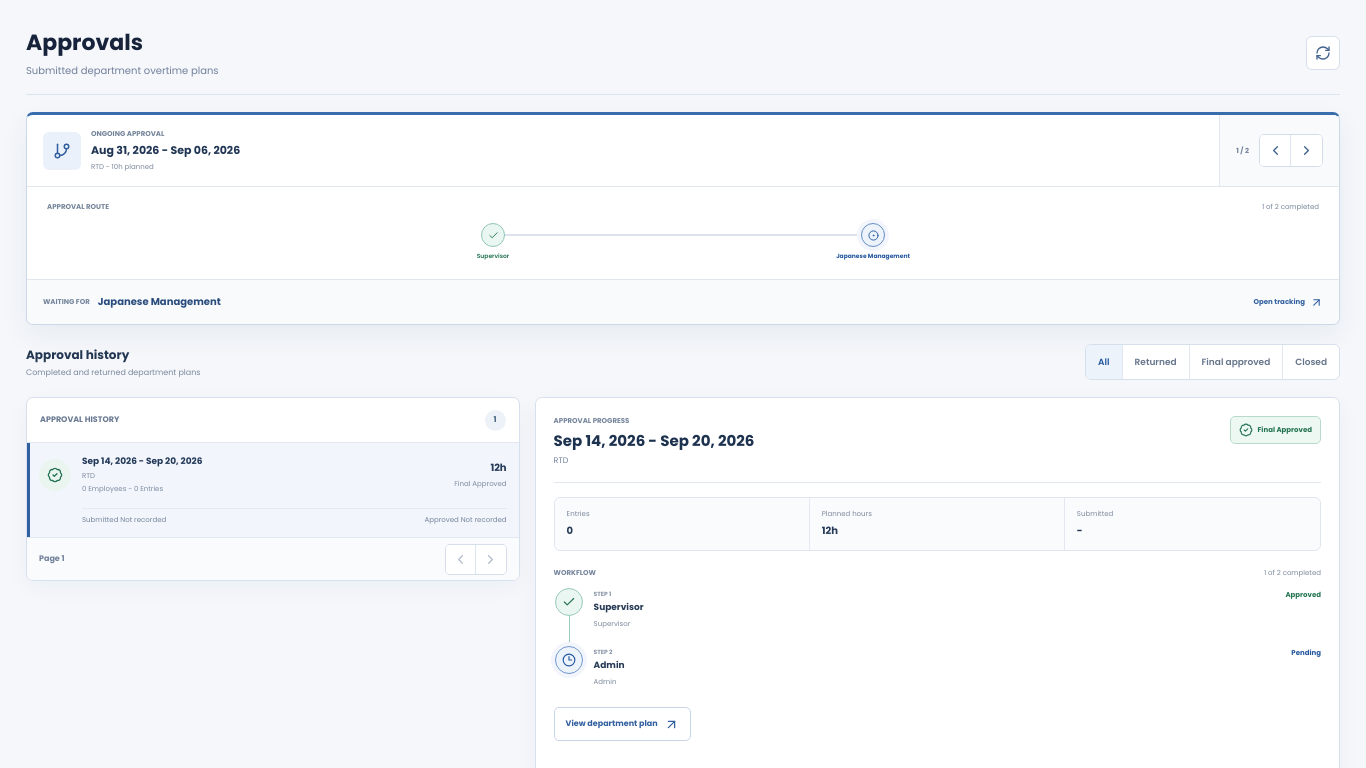
SupervisorApprovalsPage › cycles through ongoing department approvals one submission at a time
This screenshot has width=1366, height=768.
Expected: the text "Aug 31, 2026 - Sep 06, 2026" is shown, [91,142,240,158]
Expected: the text "1 / 2" is shown, [1236,146,1249,156]
Click the button named "Next ongoing approval". click: (1306, 150)
box: [1291,135,1322,166]
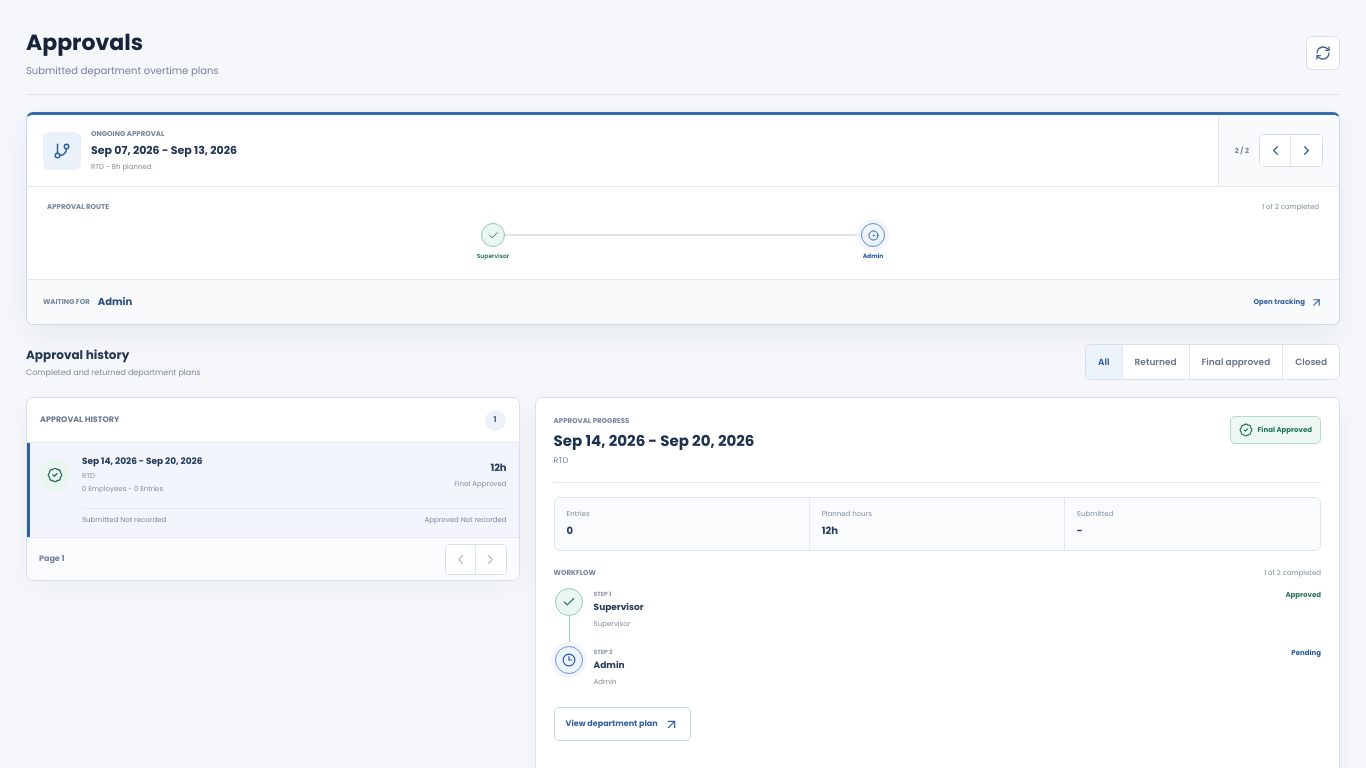
Expected: the text "2 / 2" is shown, [1235,146,1249,156]
Now the text "Sep 07, 2026 - Sep 13, 2026" is shown, box [91,142,237,158]
